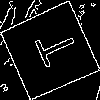T: (25, 26, 80, 73)
